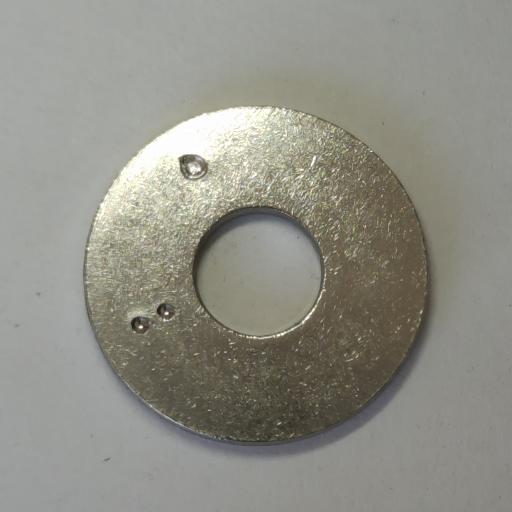circular_cavity: (178, 154, 208, 181), (131, 316, 149, 334), (157, 303, 175, 320)
